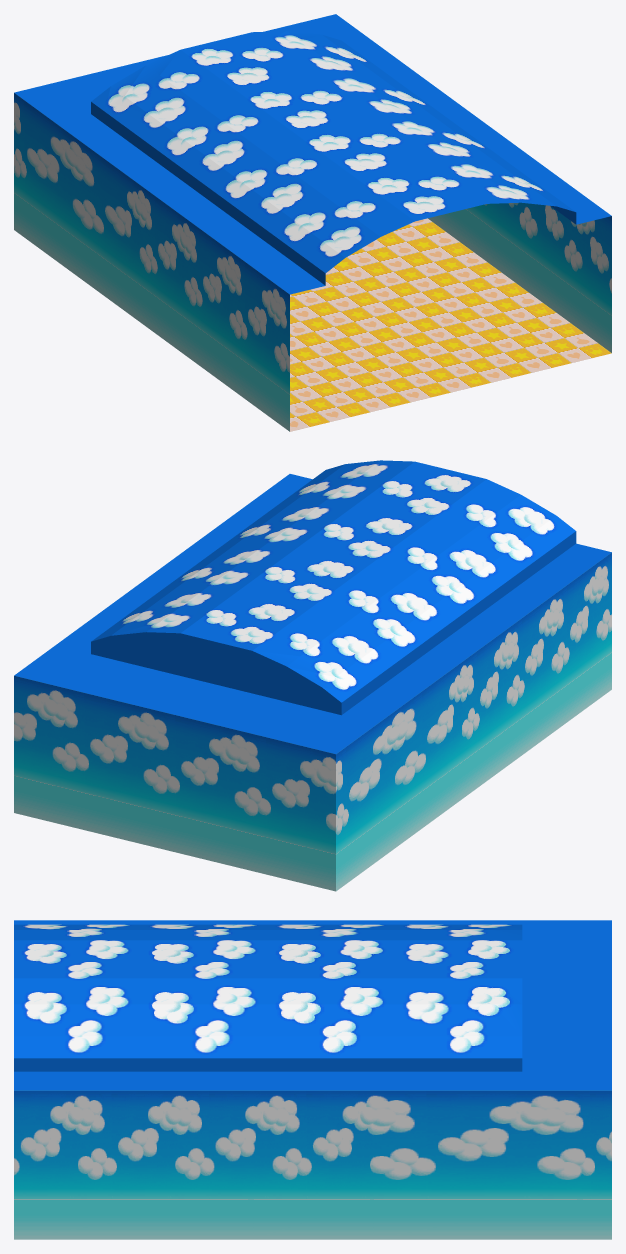
Rendered from Classroom.obj.
The picture shows the model from 3 angles, top to bottom: view 1: azimuth 30°, elevation 25°; view 2: azimuth 150°, elevation 25°; view 3: azimuth 270°, elevation 25°; orthographic projection. The views are drawn at different scales.
Visible parts, largest first — view 1: Mesh_0069; view 2: Mesh_0069; view 3: Mesh_0069.
Boxes of the visible parts, x1=… form: Mesh_0069: x1=14, y1=14, x2=611, y2=431; Mesh_0069: x1=14, y1=460, x2=611, y2=891; Mesh_0069: x1=14, y1=920, x2=611, y2=1239.
Bounding box in the file's own units: 5.4 × 2.88 × 8.01.
Materials: 5 (5 with a texture image).
